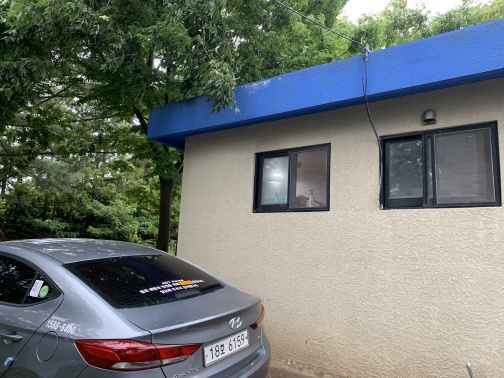Security Office: (150, 30, 503, 249)
